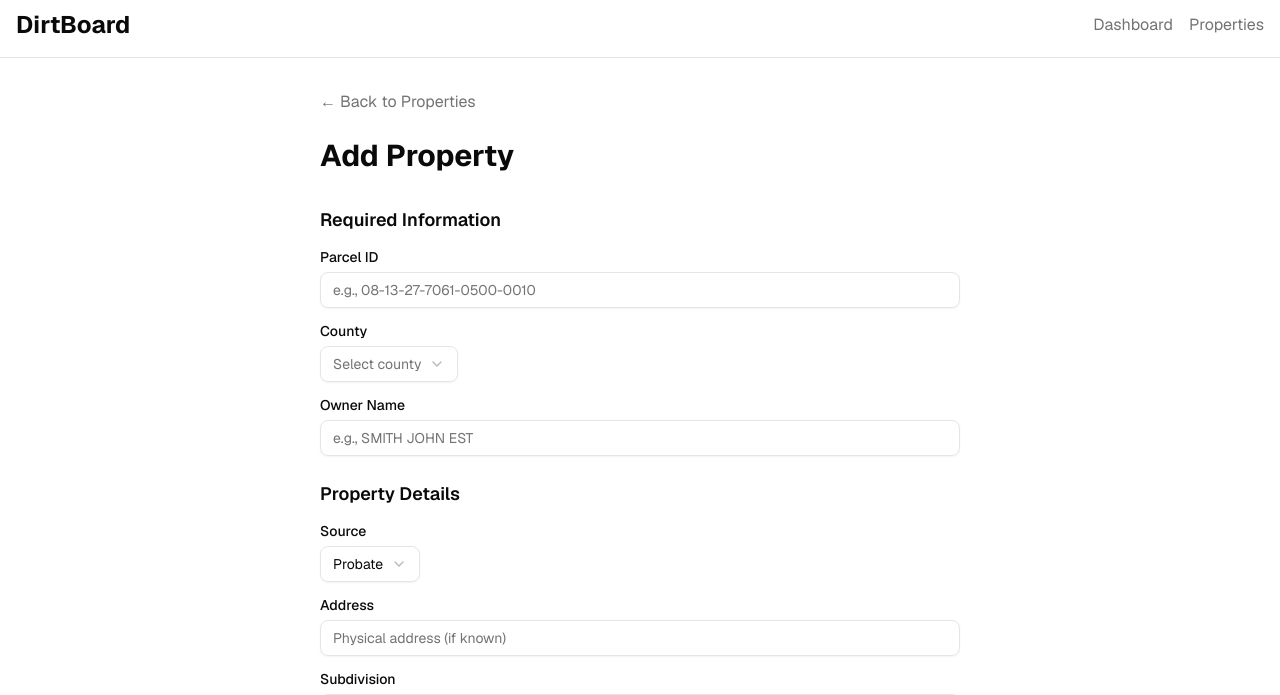
it: Add Property Page › shows validation error for missing parcel id
Note: Fill only owner name, leave parcel_id empty
Type "TEST OWNER" into the field labelled "Owner Name" at point(640, 438), box [320,420,960,456]
(page scrolled)
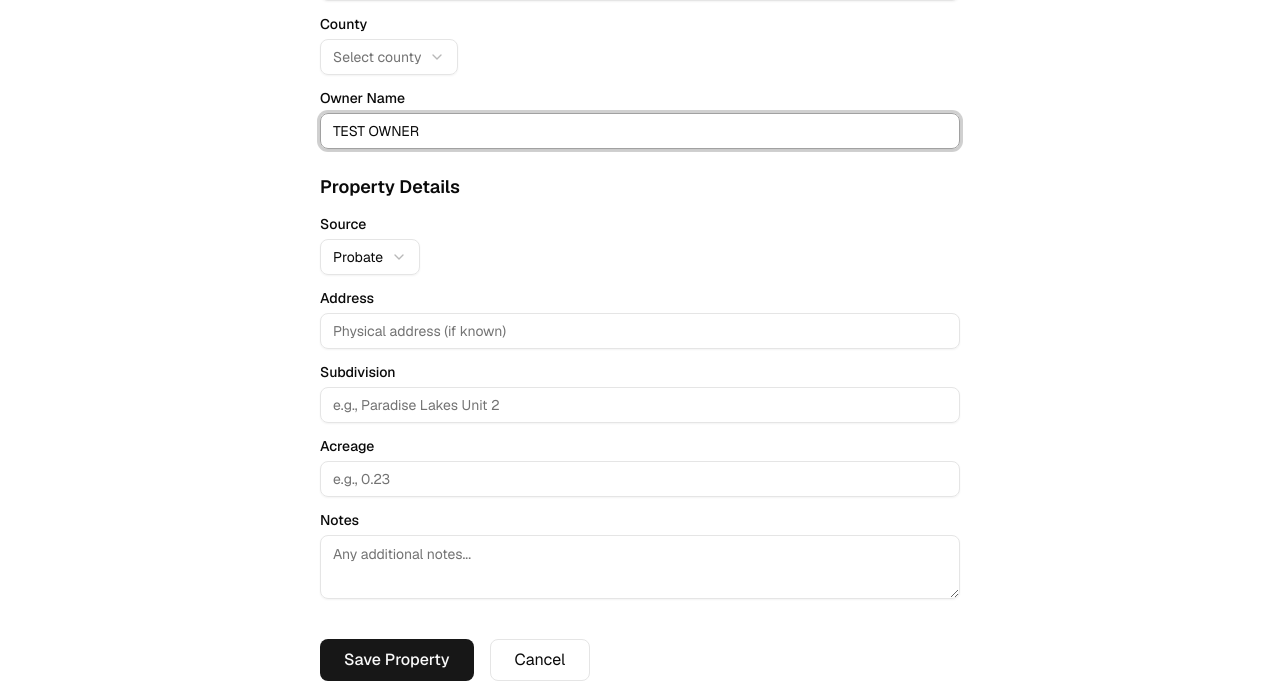
Click the button "Save Property" at point(397, 660), box [320,639,474,681]
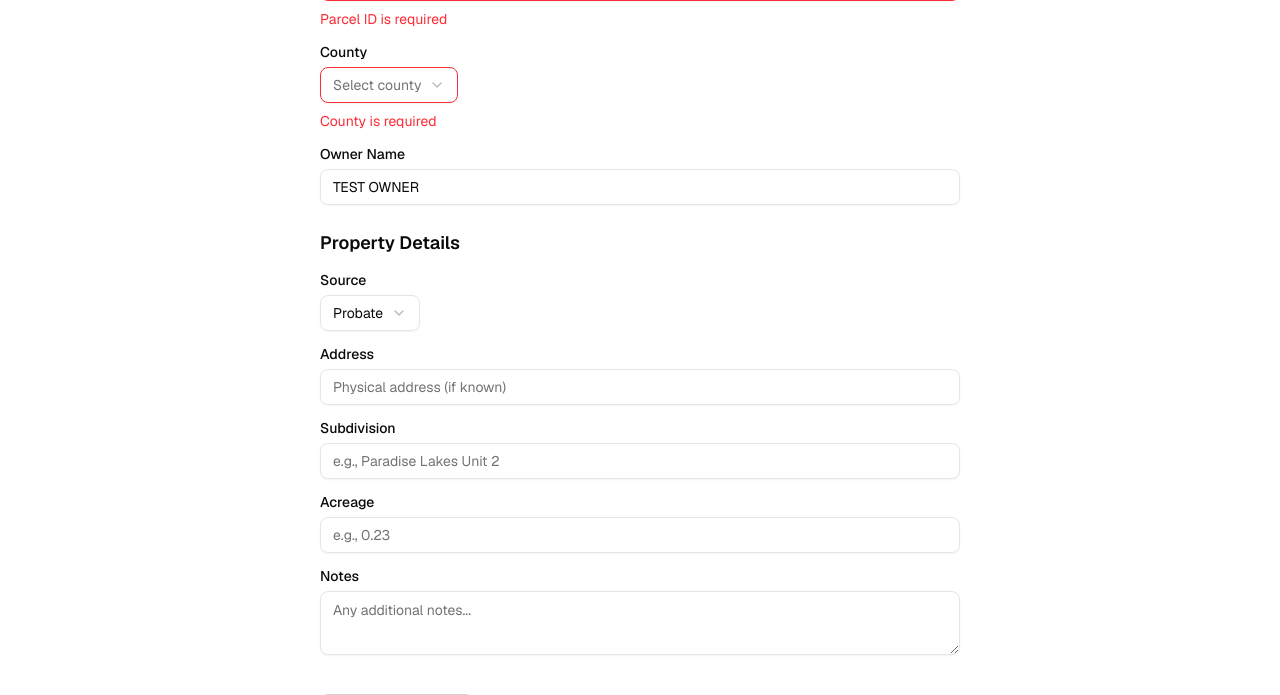
Expected: the text "Parcel ID is required" is shown, [320,10,447,28]
